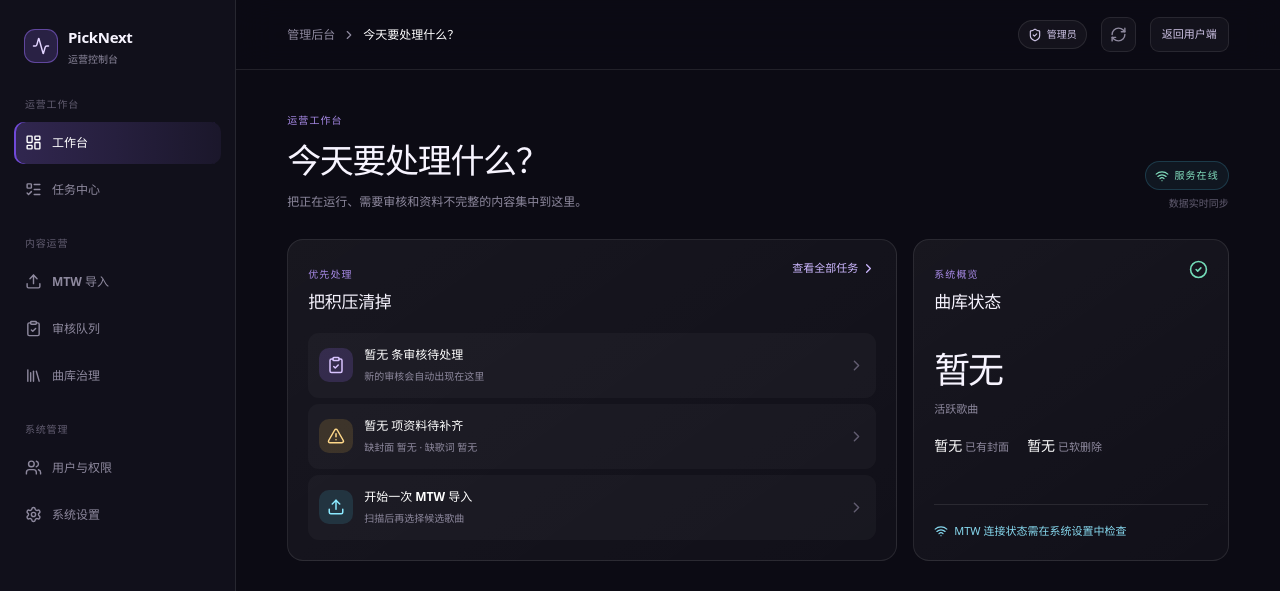
管理后台工作台 › 管理员显示完整导航，并可从工作台进入审核队列
This screenshot has width=1280, height=591.
expect the heading "今天要处理什么？" is shown: met, box [287,135,587,186]
expect the button "用户与权限" is shown: met, box [14,446,221,488]
Click the button "审核队列" at [118, 328], box [14,308,221,350]
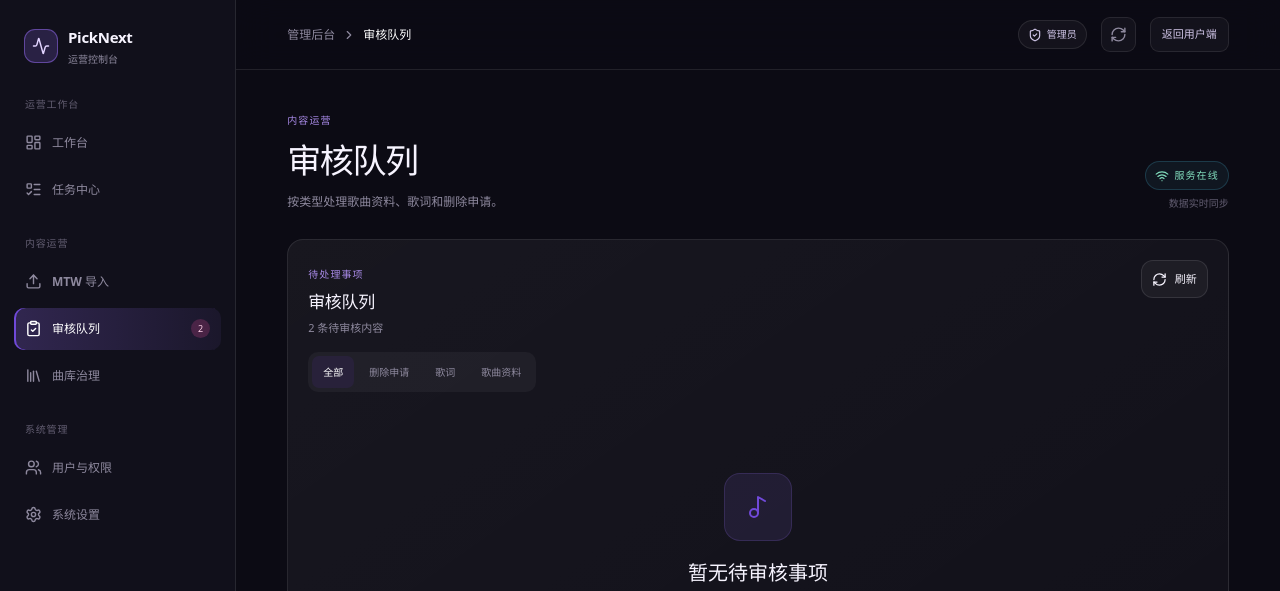
expect the text "2 条待审核内容" is shown: met, box [308,320,383,336]
